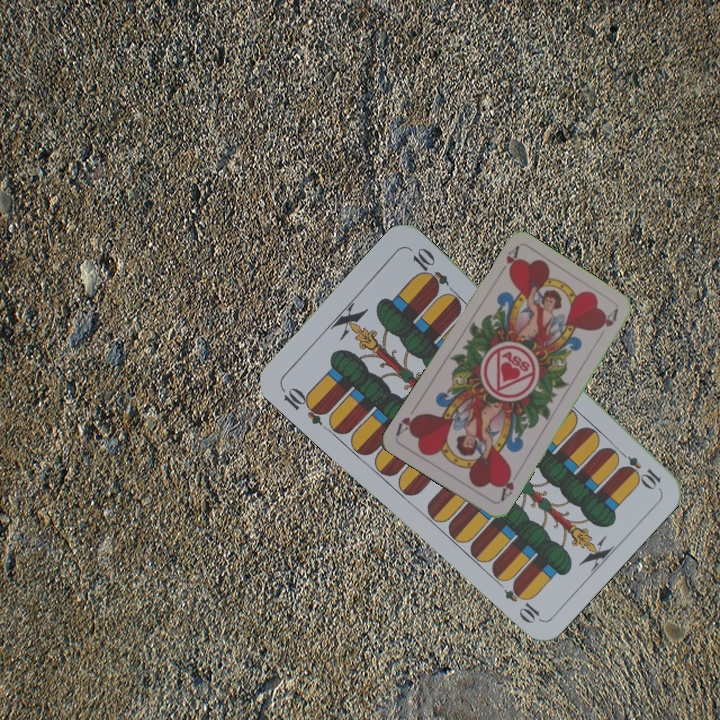E10: (612, 445, 664, 491), (277, 383, 330, 428)
HA: (494, 243, 522, 280), (496, 466, 517, 504)
